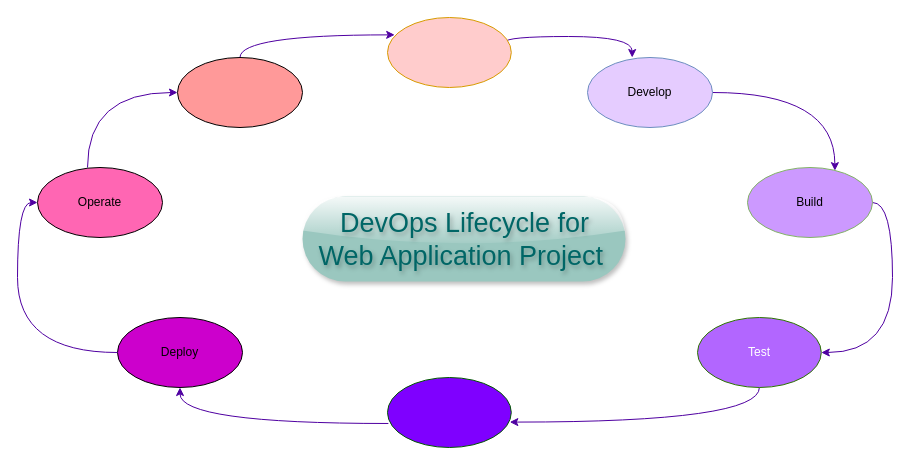
The diagram is 910 pixels wide and 465 high, and some of its shapes have lost their labels. Here are the shapes that lost their labels. From the top down, the centre of each, then its label:
At (x=448, y=52): "Plan".
At (x=239, y=92): "Monitor".
At (x=448, y=412): "Release".
